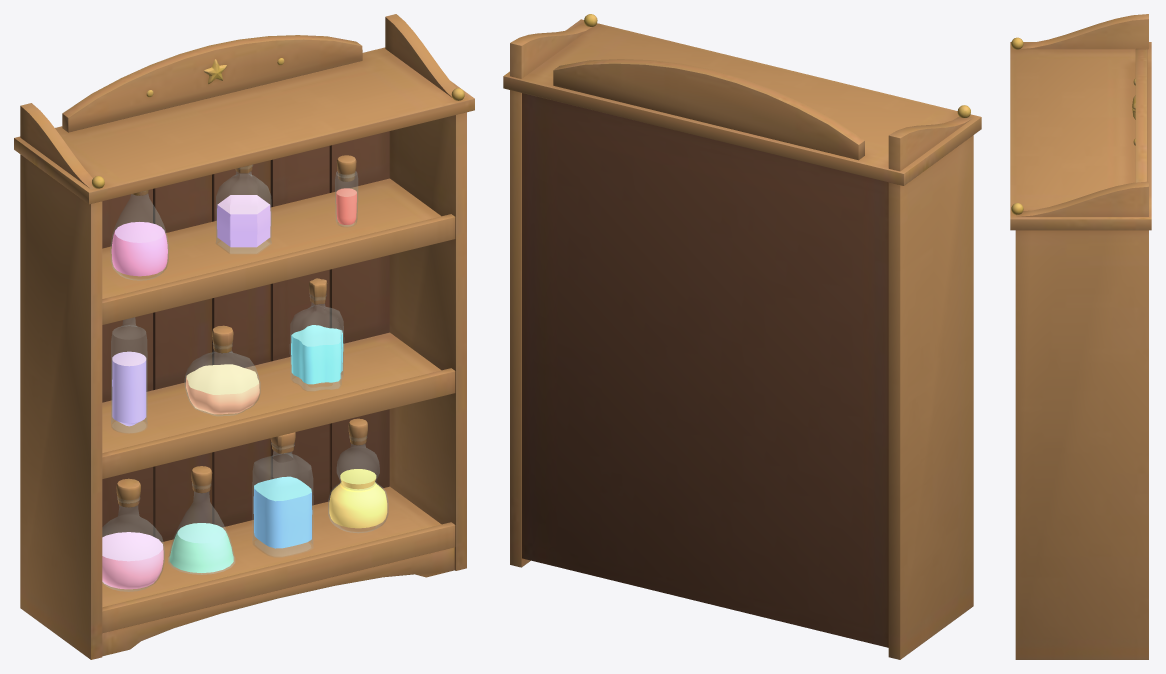
Rendered from potion-shelf.glb.
3 renders of one model, left to right at view 1: azimuth 30°, elevation 25°; view 2: azimuth 150°, elevation 25°; view 3: azimuth 270°, elevation 25°, orthographic. The views are drawn at different scales.
Parts seen in each view (by area): view 1: potion-shelf_body, potion-shelf_glass, potion-shelf_potions; view 2: potion-shelf_body; view 3: potion-shelf_body.
Part boxes in pixels (x1,y1,x2,y2): potion-shelf_body: [14, 14, 474, 659]; potion-shelf_glass: [102, 165, 388, 591]; potion-shelf_potions: [102, 188, 387, 589]; potion-shelf_body: [503, 14, 981, 659]; potion-shelf_body: [1010, 14, 1151, 659].
Bounding box in the file's own units: 0.944 × 1.21 × 0.318.
Materials: 12 (1 with a texture image).
